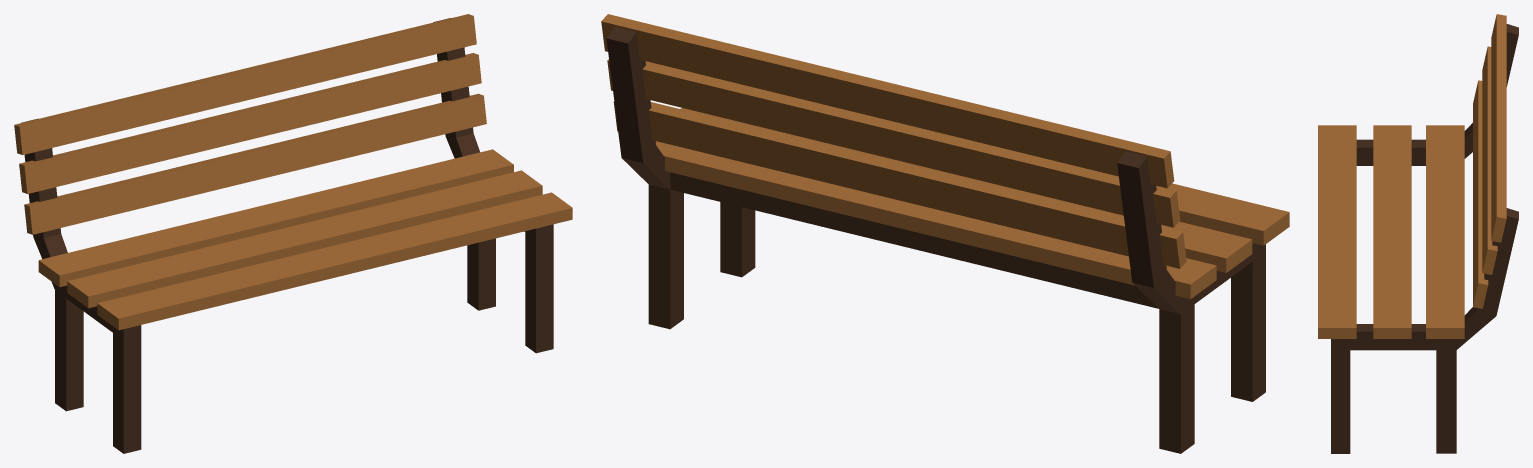
The model's file is bangku.fbx.
The picture shows the model from 3 angles, left to right: view 1: azimuth 30°, elevation 25°; view 2: azimuth 150°, elevation 25°; view 3: azimuth 270°, elevation 25°; orthographic projection. The views are drawn at different scales.
Visible parts, largest first — view 1: Cube.006, Cube.002, Cube.004, Cube.003, Cube.005, Cube, Cube.001; view 2: Cube.006, Cube.004, Cube.005, Cube.003, Cube.001, Cube.002, Cube; view 3: Cube.006, Cube, Cube.001, Cube.002, Cube.004, Cube.003, Cube.005.
Part boxes in pixels (box(x1,y1,x2,y2)): Cube.006: box(21, 18, 553, 453); Cube.002: box(97, 192, 572, 330); Cube.004: box(14, 14, 476, 154); Cube.003: box(24, 93, 486, 234); Cube.005: box(19, 53, 481, 193); Cube: box(67, 170, 542, 308); Cube.001: box(38, 149, 513, 287); Cube.006: box(606, 27, 1265, 453); Cube.004: box(601, 14, 1174, 188); Cube.005: box(607, 59, 1180, 227); Cube.003: box(613, 101, 1186, 268); Cube.001: box(655, 141, 1216, 298); Cube.002: box(1168, 183, 1289, 245); Cube: box(681, 108, 1252, 272); Cube.006: box(1331, 24, 1518, 453); Cube: box(1373, 125, 1411, 338); Cube.001: box(1426, 125, 1464, 338); Cube.002: box(1318, 125, 1356, 338); Cube.004: box(1491, 14, 1506, 242); Cube.003: box(1473, 80, 1488, 308); Cube.005: box(1482, 46, 1497, 274).
Bounding box in the file's own units: 954 × 529 × 398.
